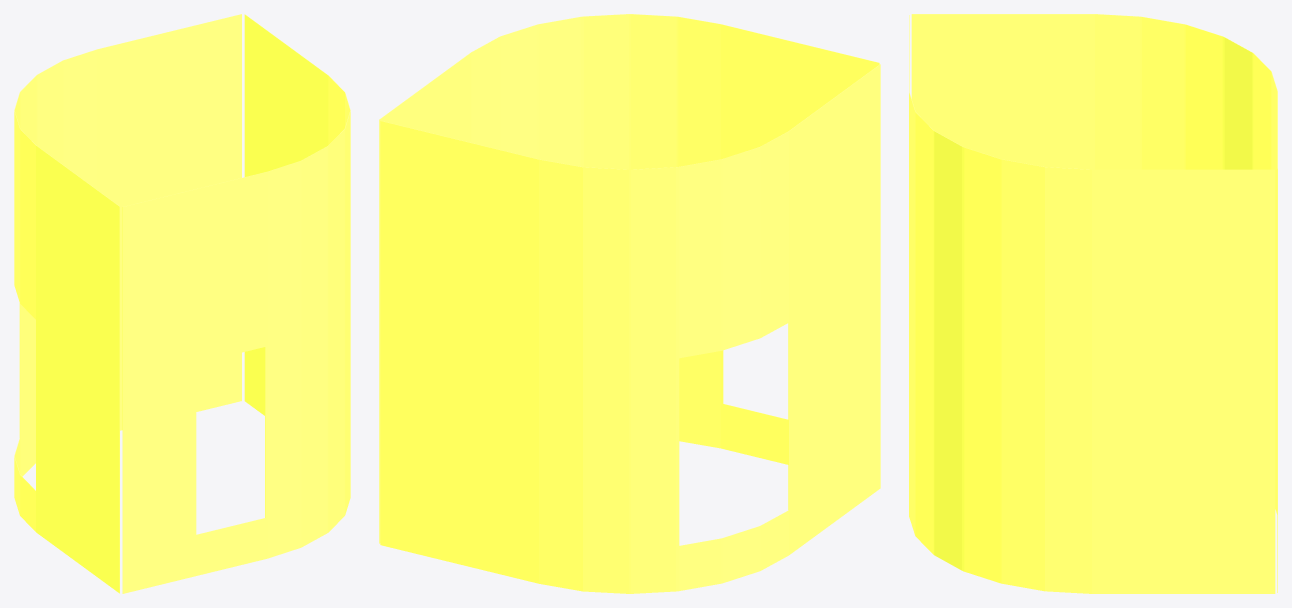
The model's file is Bedaux_2_Bedaux_Stijgerdoek_2.FBX.
3 views of the same model, side by side, from view 1: azimuth 30°, elevation 25°; view 2: azimuth 150°, elevation 25°; view 3: azimuth 270°, elevation 25° (orthographic). The views are drawn at different scales.
Parts seen in each view (by area): view 1: Bedaux_2_Bedaux_Stijgerdoek_2; view 2: Bedaux_2_Bedaux_Stijgerdoek_2; view 3: Bedaux_2_Bedaux_Stijgerdoek_2.
Boxes of the visible parts, box(x1,y1,x2,y2) form: Bedaux_2_Bedaux_Stijgerdoek_2: box(14, 14, 350, 593); Bedaux_2_Bedaux_Stijgerdoek_2: box(379, 14, 880, 593); Bedaux_2_Bedaux_Stijgerdoek_2: box(909, 14, 1277, 593).
Size of the model in its own units: 421 by 421 by 534.
